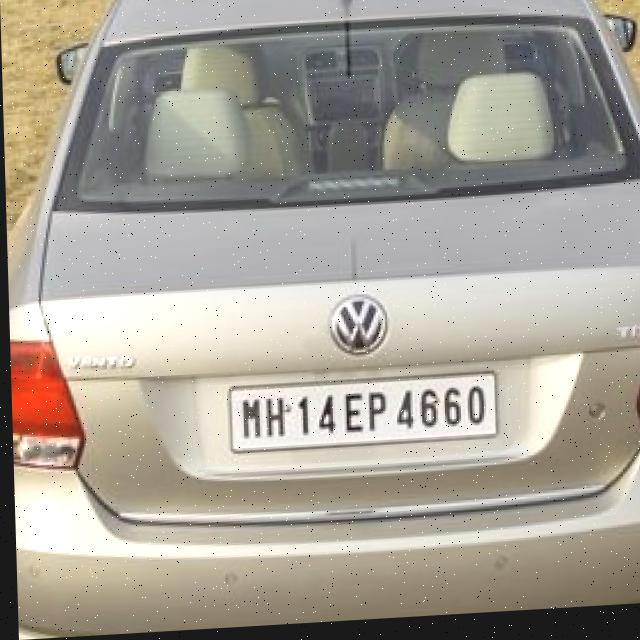plate: (222, 374, 495, 457)
